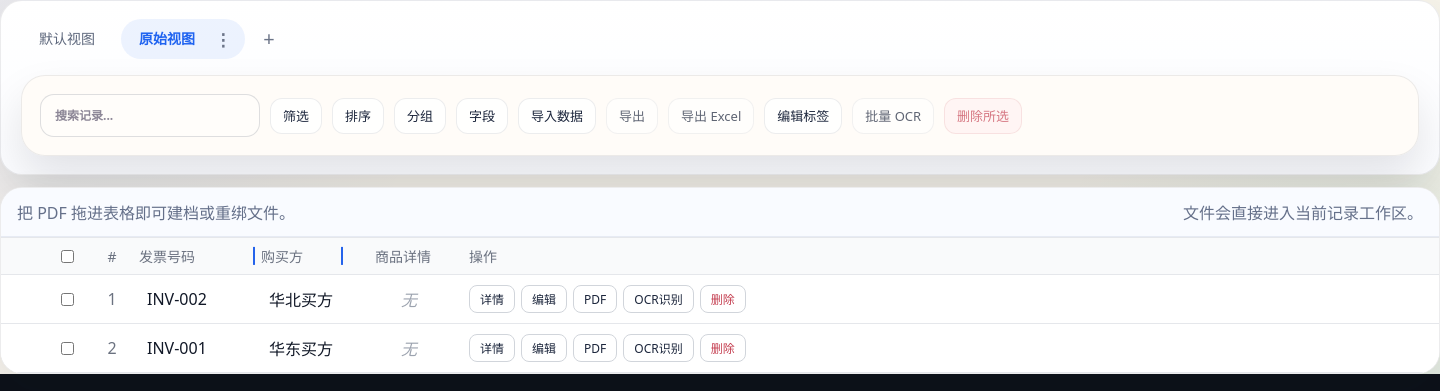
Scenario: InvoiceWorkspace saved views › shows draft actions between the active view tab and more menu, and saves the draft into the current view
Type "华北" into the field with placeholder "搜索记录..." at (150, 116), box [40,94,260,137]
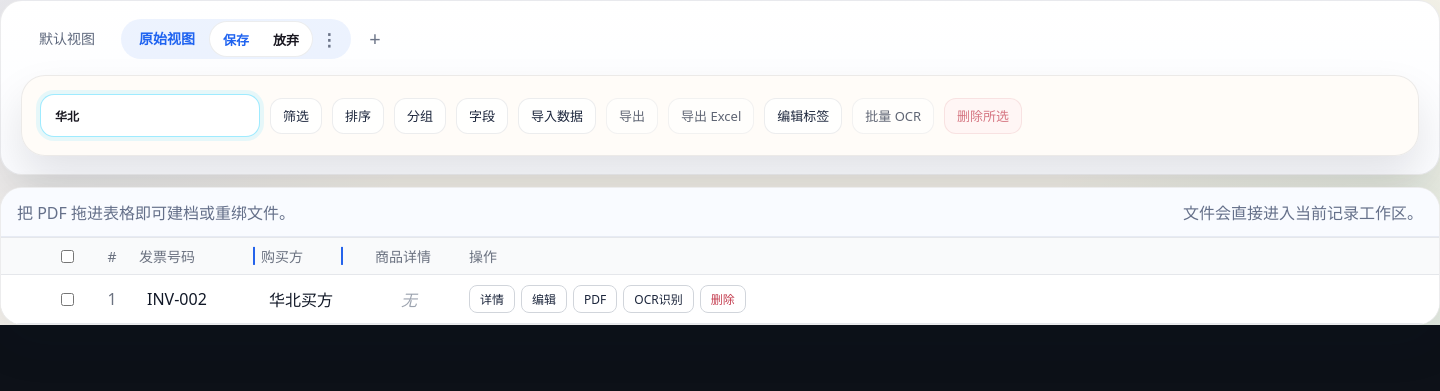
Expected: the field showing "INV-001" is not shown
Click the button "保存" at (236, 39), box [213,25,259,53]
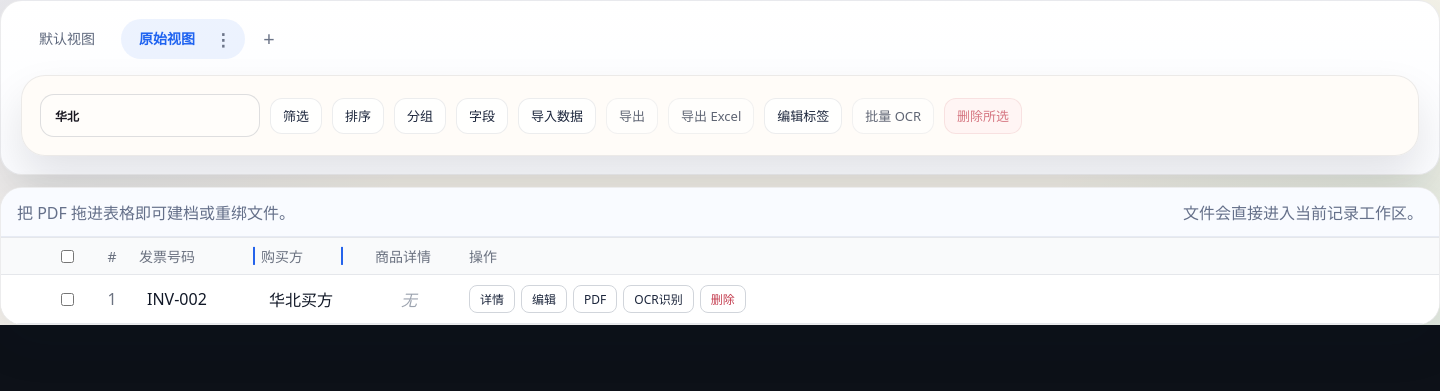
Expected: the button "保存" is gone
